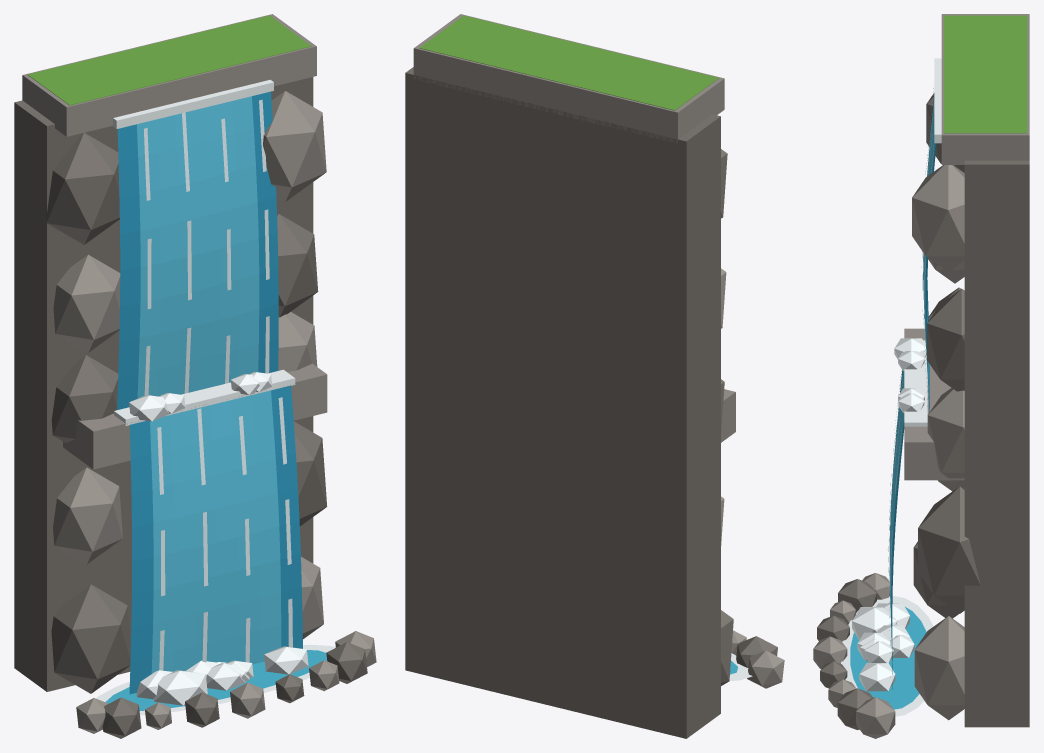
File: cascade-tall.glb
3 renders of one model, left to right at view 1: azimuth 30°, elevation 25°; view 2: azimuth 150°, elevation 25°; view 3: azimuth 270°, elevation 25°, orthographic. The views are drawn at different scales.
Visible parts, largest first — view 1: cascade-tall; view 2: cascade-tall; view 3: cascade-tall.
Part boxes in pixels (box(x1,y1,x2,y2)): cascade-tall: box(14, 14, 376, 738); cascade-tall: box(405, 14, 784, 738); cascade-tall: box(813, 14, 1029, 738).
Bounding box in the file's own units: 7.32 × 14.31 × 4.67.
